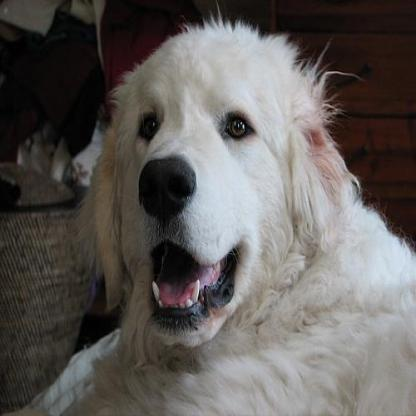kuvasz: (71, 5, 414, 413)
